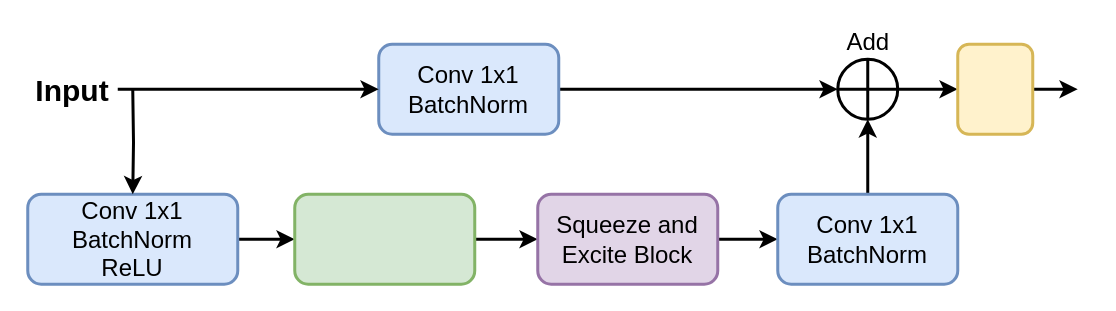
The diagram is 1116 pixels wide and 311 high, and some of its shapes have lost their labels. The box of each missing label's shape, as (x1, y1, x2, y2) in pixels:
Conv 3x3 BatchNorm ReLU: (292, 192, 476, 285)
ReLU: (956, 42, 1034, 135)
